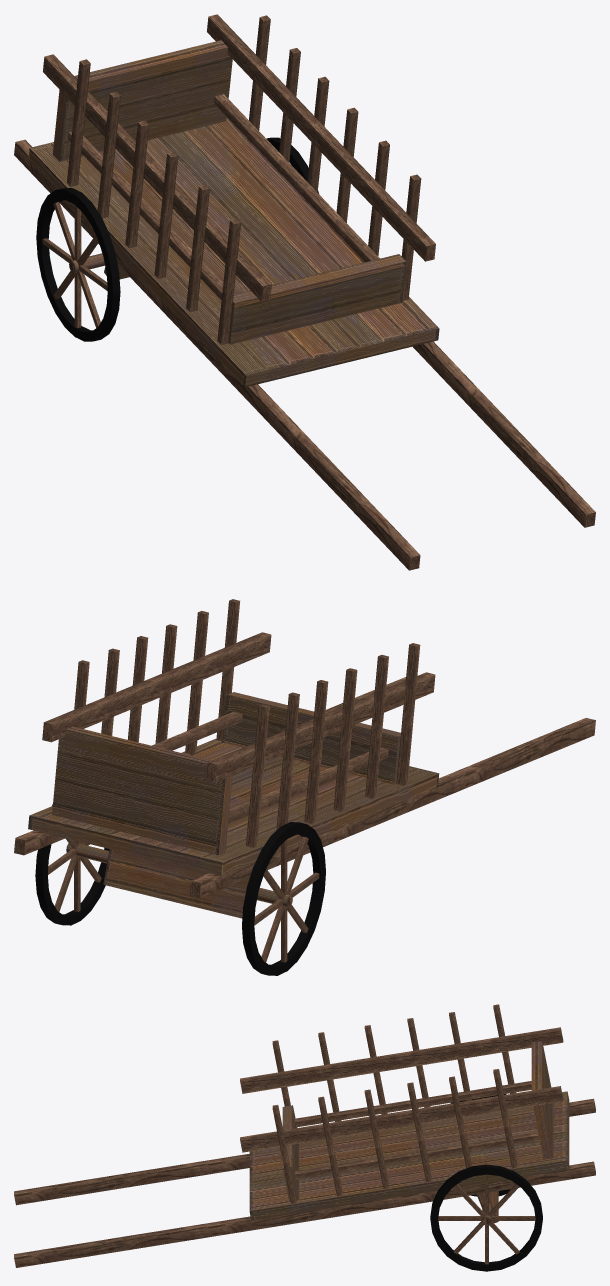
Rendered from car.fbx.
The picture shows the model from 3 angles, top to bottom: view 1: azimuth 30°, elevation 25°; view 2: azimuth 150°, elevation 25°; view 3: azimuth 270°, elevation 25°; orthographic projection. The views are drawn at different scales.
Parts seen in each view (by area): view 1: car; view 2: car; view 3: car.
Boxes of the visible parts, x1,y1,x2,y2 form: car: (14,14,595,570); car: (14,599,595,975); car: (14,1004,595,1271).
Bounding box in the file's own units: 47.53 × 55.45 × 148.
